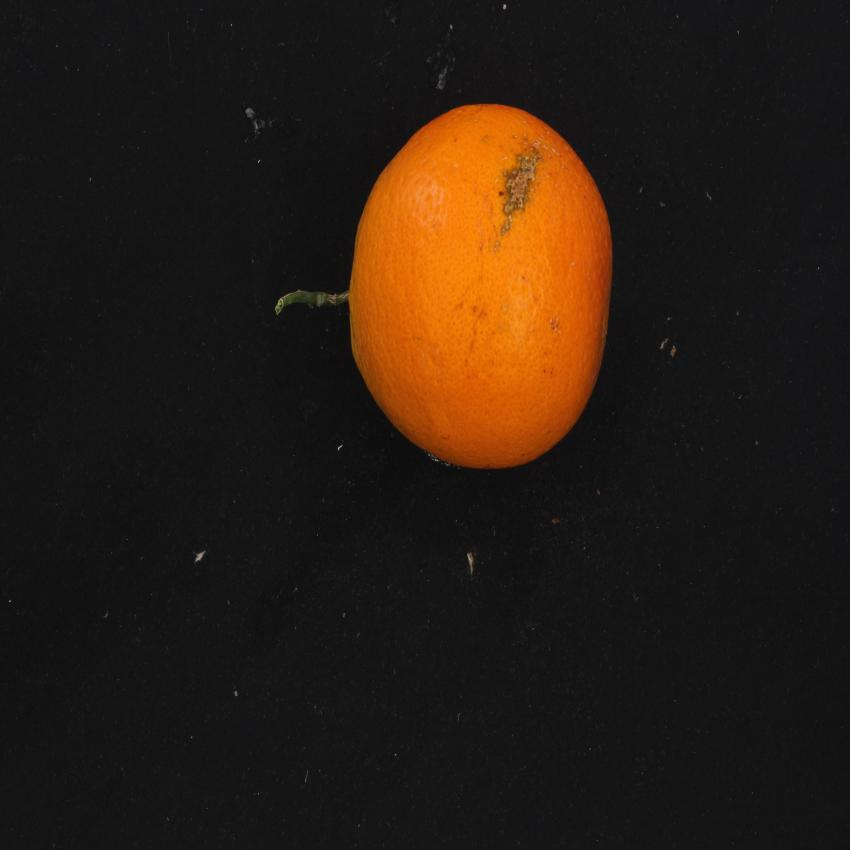Buen estado: (341, 92, 622, 484)
